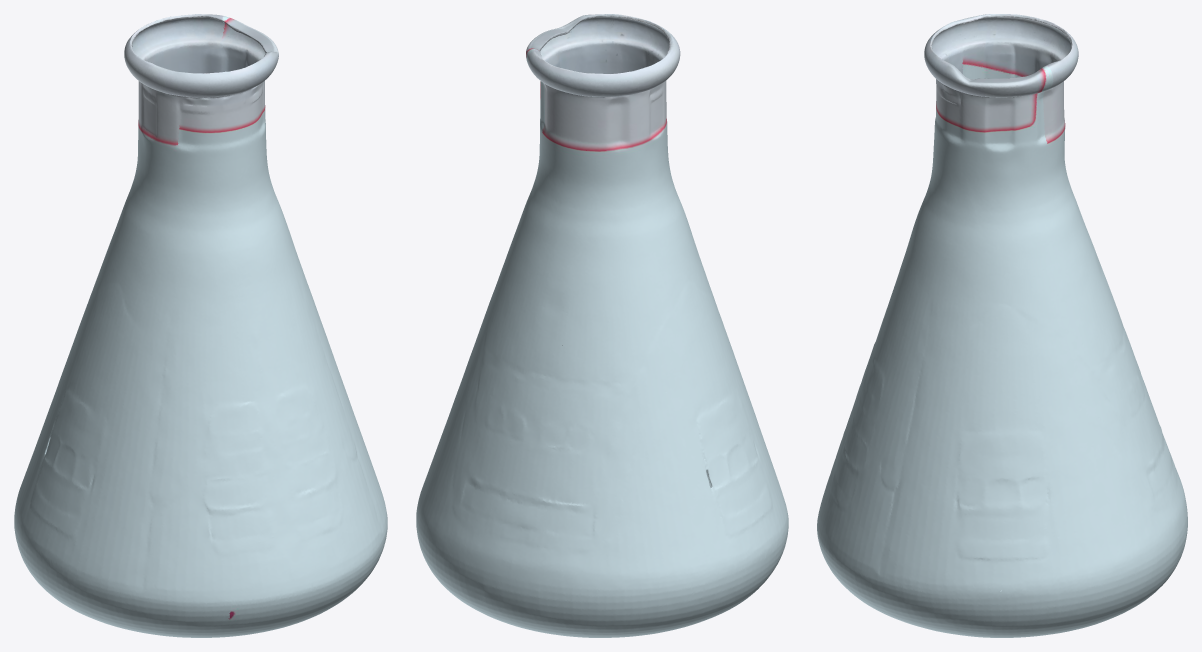
File: salt_beaker.glb
The picture shows the model from 3 angles, left to right: view 1: azimuth 30°, elevation 25°; view 2: azimuth 150°, elevation 25°; view 3: azimuth 270°, elevation 25°; orthographic projection.
Parts seen in each view (by area): view 1: tripo_node_377c8978-a28a-4534-8f01-d845ca4c34b6; view 2: tripo_node_377c8978-a28a-4534-8f01-d845ca4c34b6; view 3: tripo_node_377c8978-a28a-4534-8f01-d845ca4c34b6.
Boxes of the visible parts, x1,y1,x2,y2 form: tripo_node_377c8978-a28a-4534-8f01-d845ca4c34b6: (14, 14, 387, 637); tripo_node_377c8978-a28a-4534-8f01-d845ca4c34b6: (416, 14, 788, 637); tripo_node_377c8978-a28a-4534-8f01-d845ca4c34b6: (817, 14, 1187, 637).
Bounding box in the file's own units: 1.01 × 1.63 × 1.01.
1 material, 1 textured.
